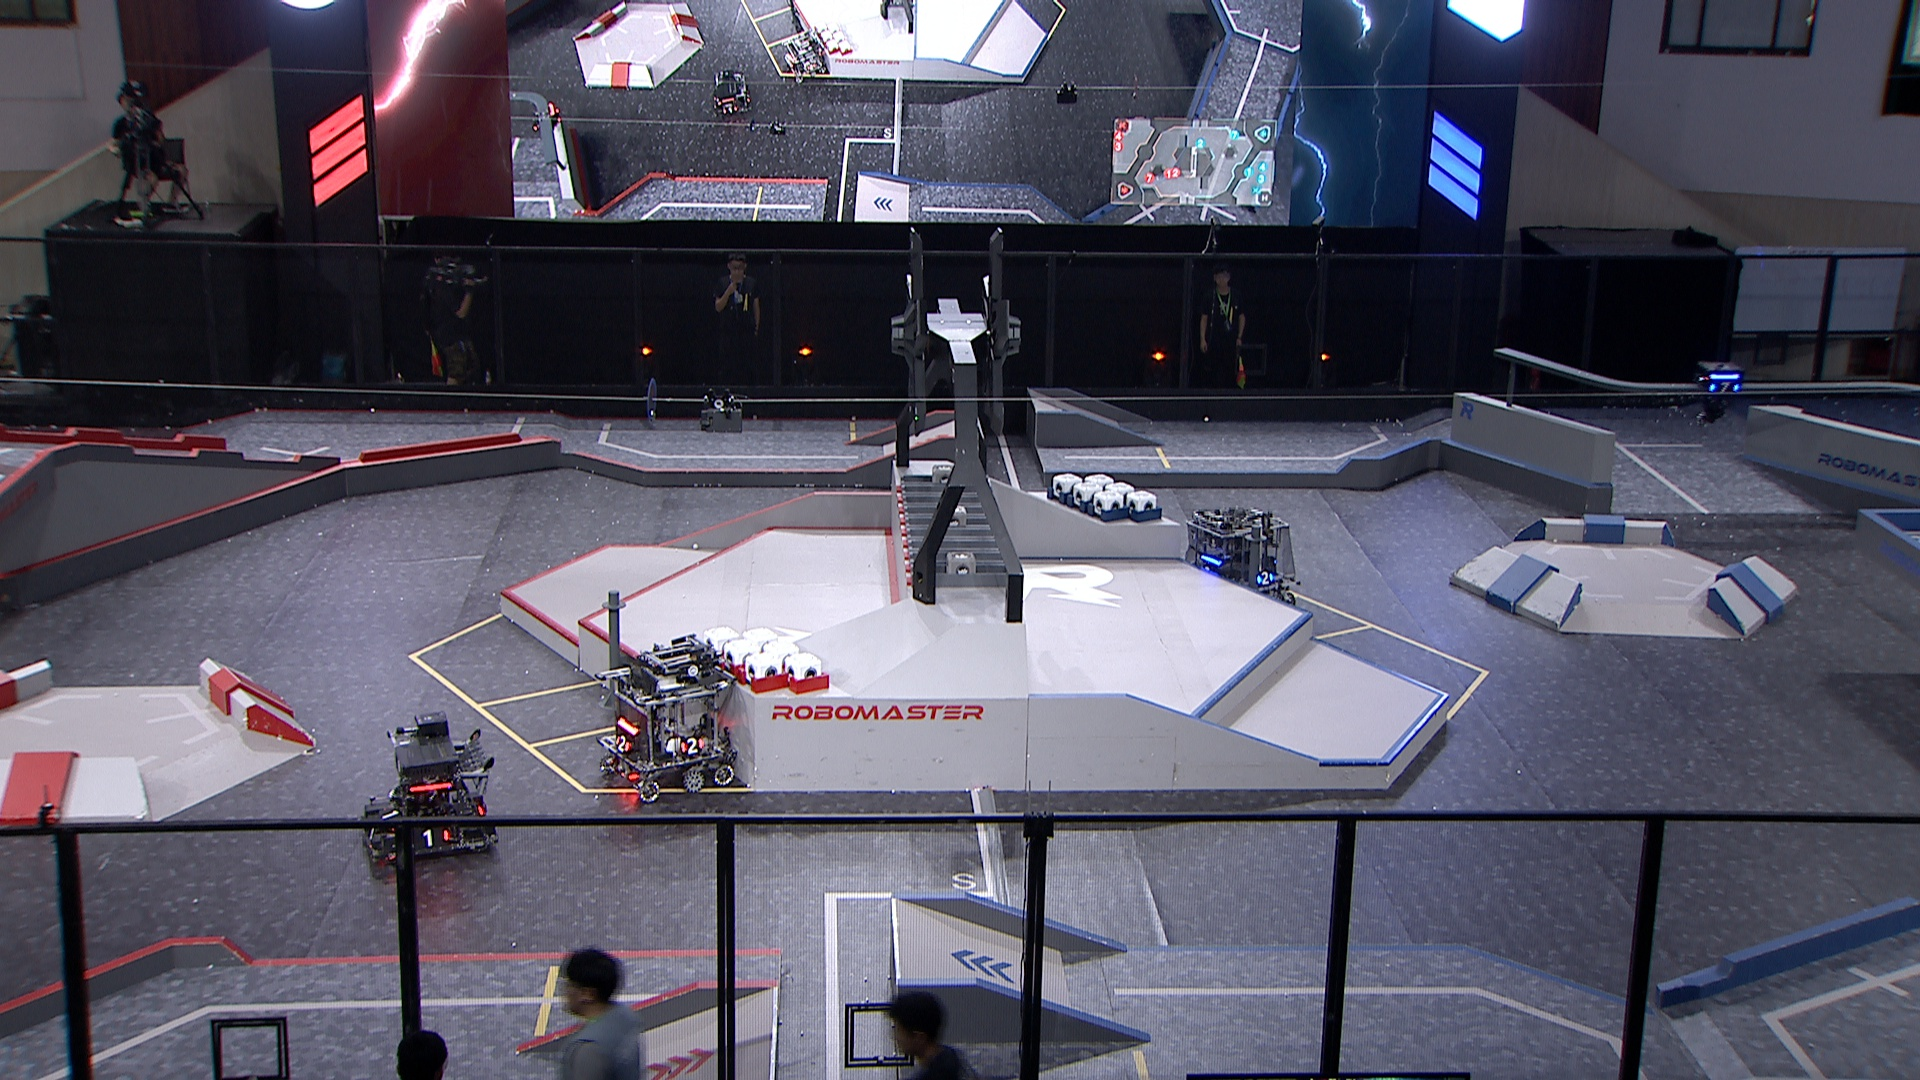armor: (414, 828, 455, 847), (678, 737, 707, 756), (1708, 380, 1741, 396), (612, 733, 636, 754), (376, 806, 398, 825), (363, 825, 382, 840), (1257, 571, 1276, 585)
car: (591, 632, 742, 803), (356, 705, 504, 873), (1179, 504, 1300, 618)
ignore: (781, 32, 825, 86), (711, 69, 754, 119), (527, 102, 562, 135)
watcher: (1689, 361, 1746, 425)
